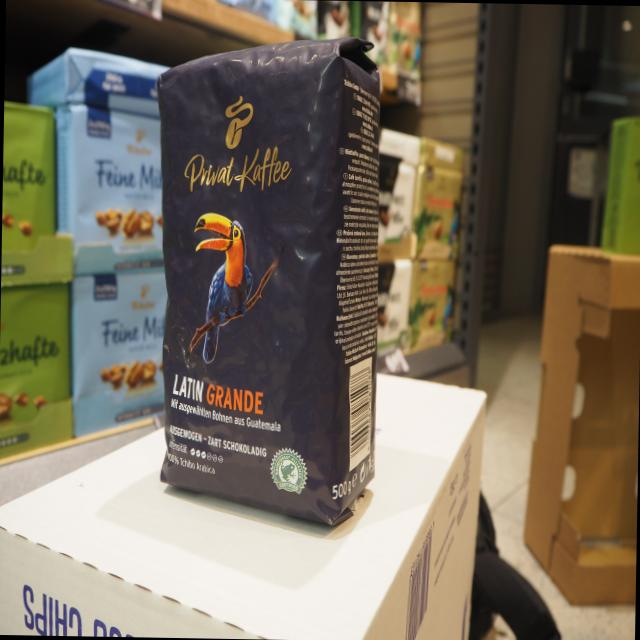LG Bohne: (148, 29, 392, 544)
